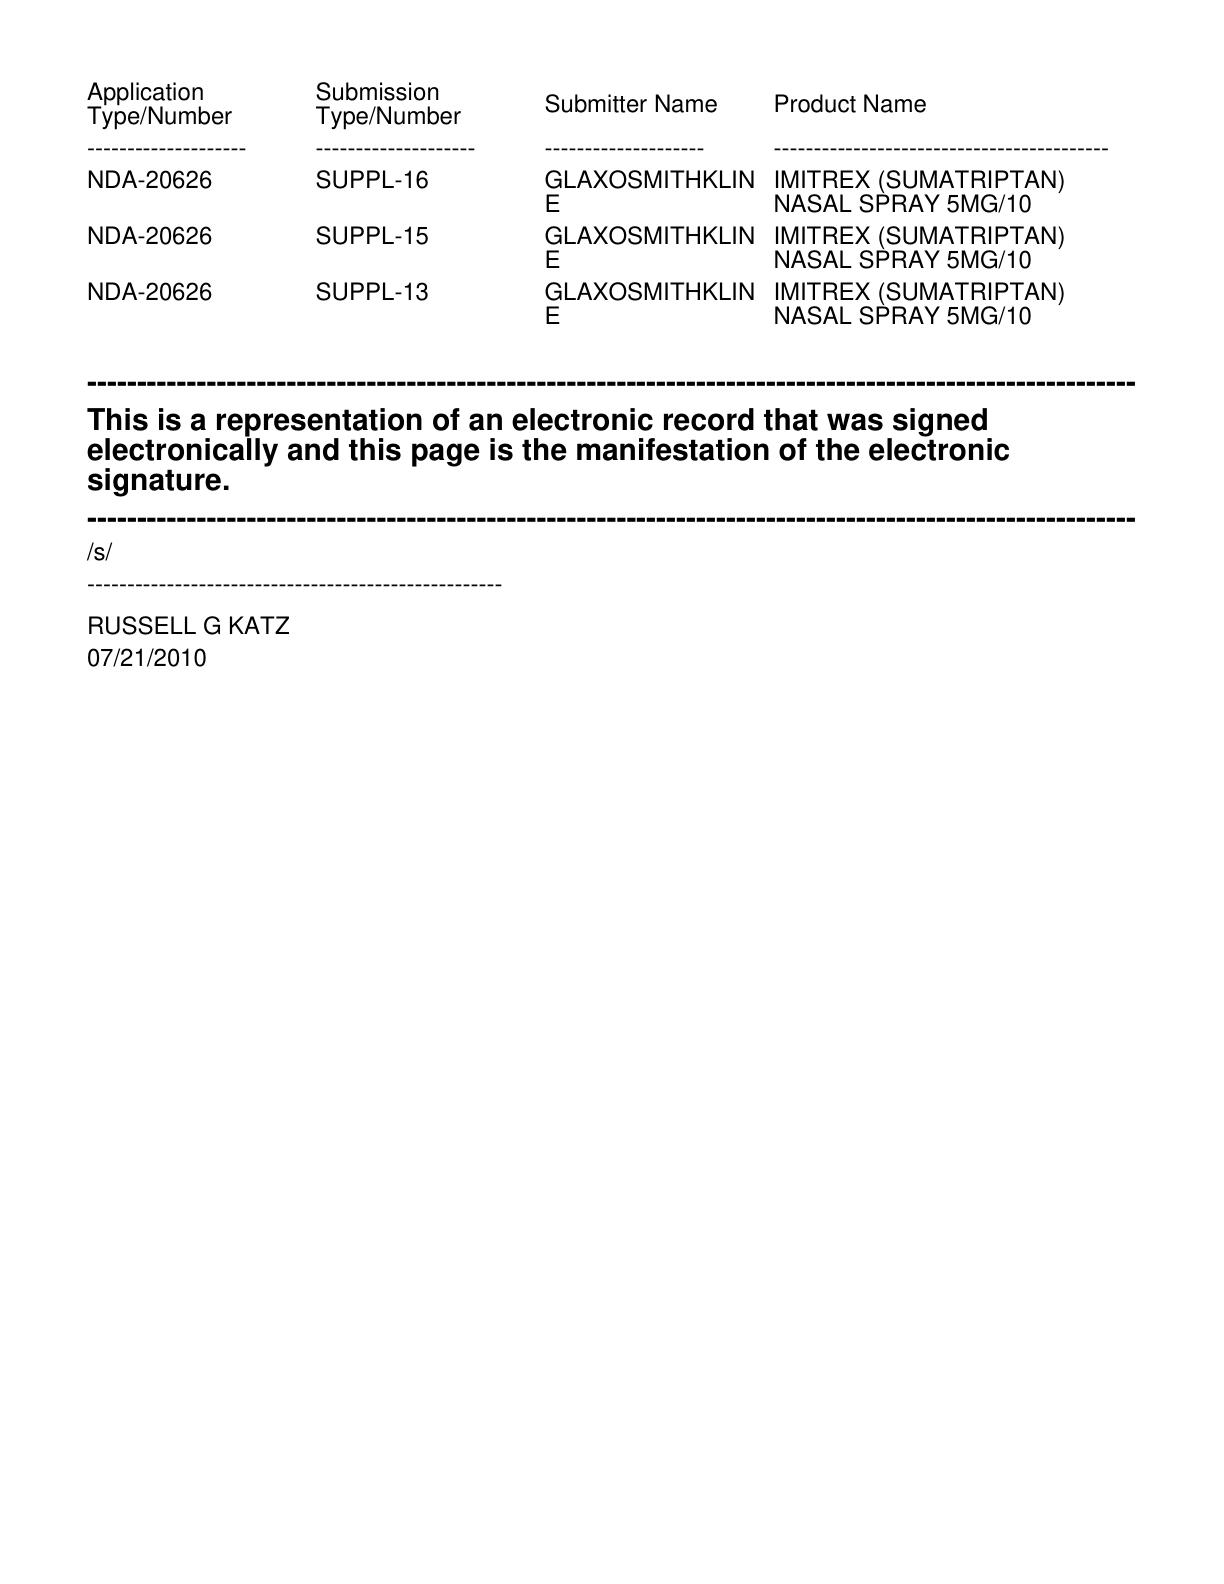nolines: (82, 75, 1108, 327)
